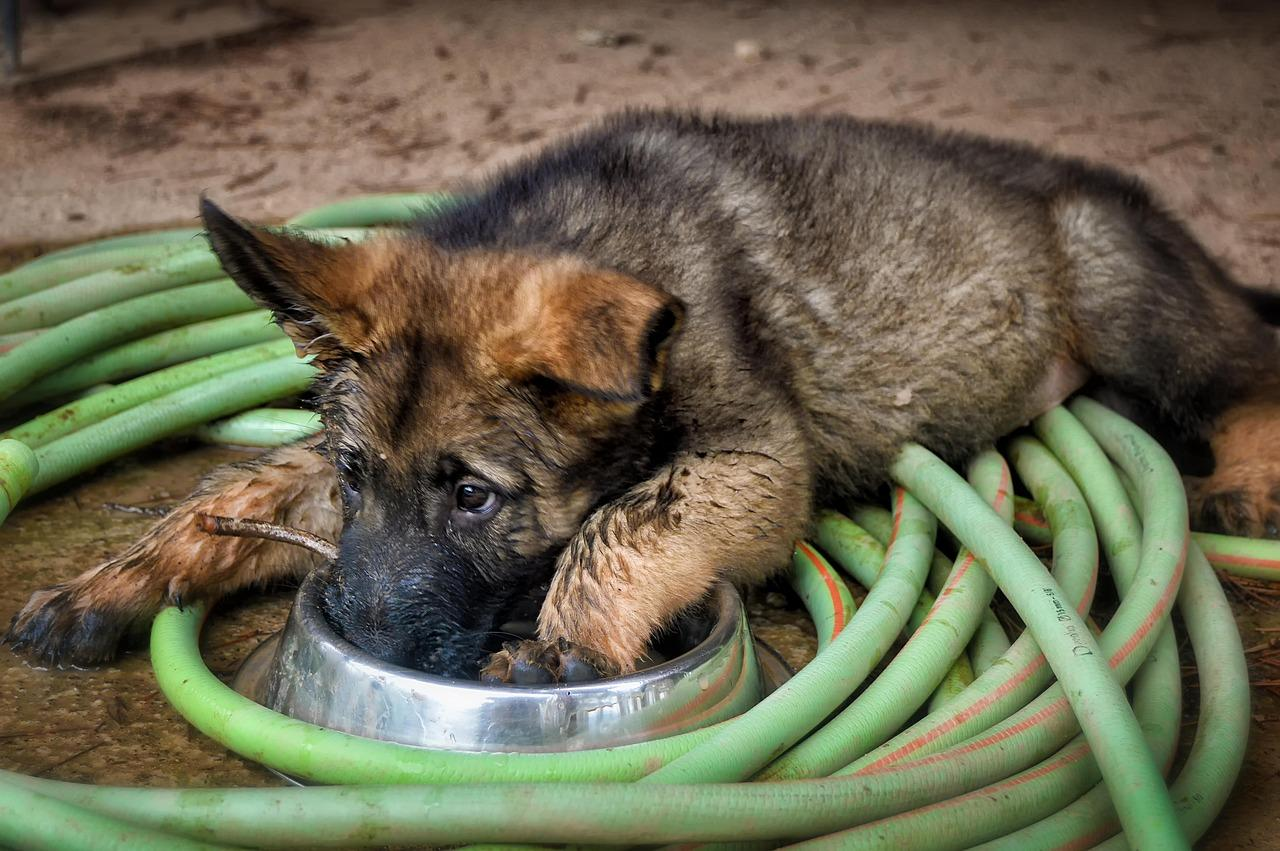german_shepherd: (154, 192, 646, 679)
